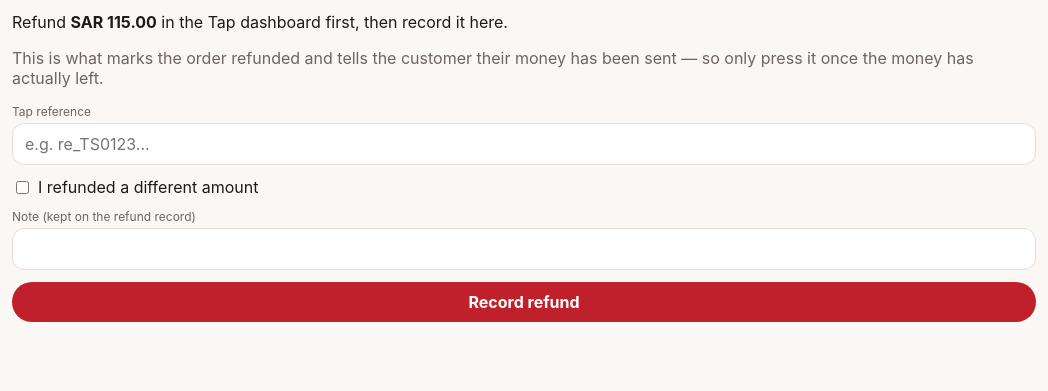
Test: RecordPayoutForm › will not record a refund with no gateway reference
Click the button "Record refund" at (524, 302), box x1=12 y1=282 x2=1036 y2=322
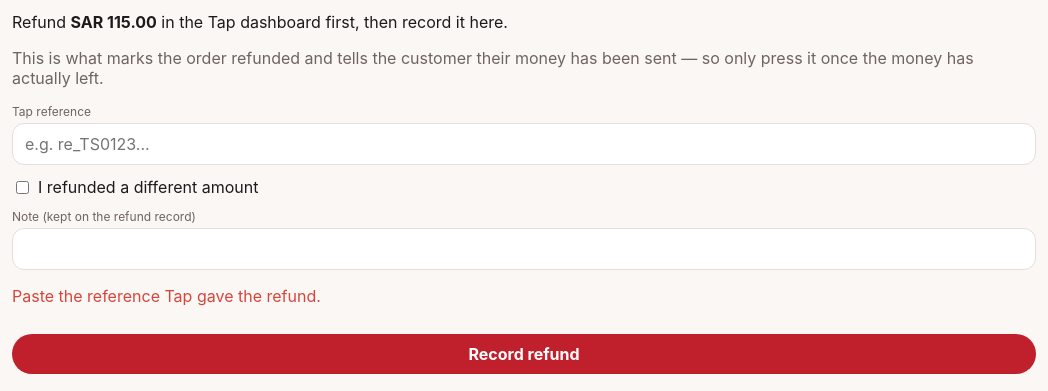
Check: the message "Paste the reference Tap gave the refund." is shown, box x1=12 y1=286 x2=321 y2=306
